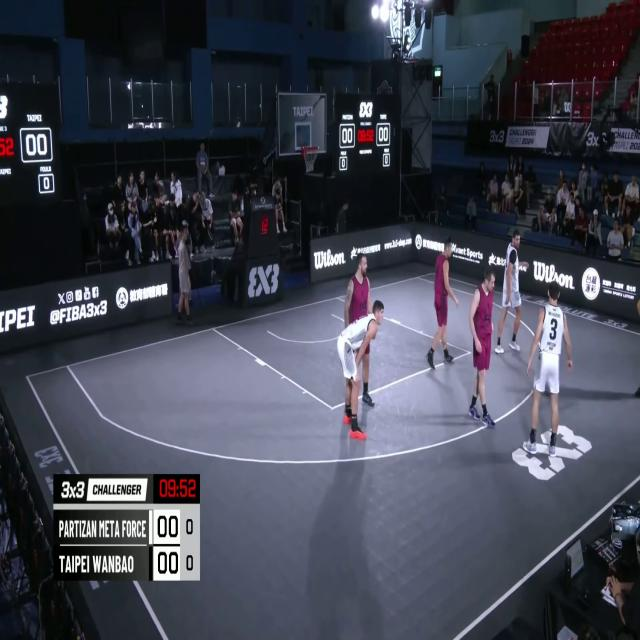hoop: (302, 141, 318, 176)
player: (522, 278, 574, 456), (337, 297, 385, 444), (469, 266, 498, 428), (343, 254, 372, 416), (428, 239, 459, 369), (496, 230, 528, 354)
